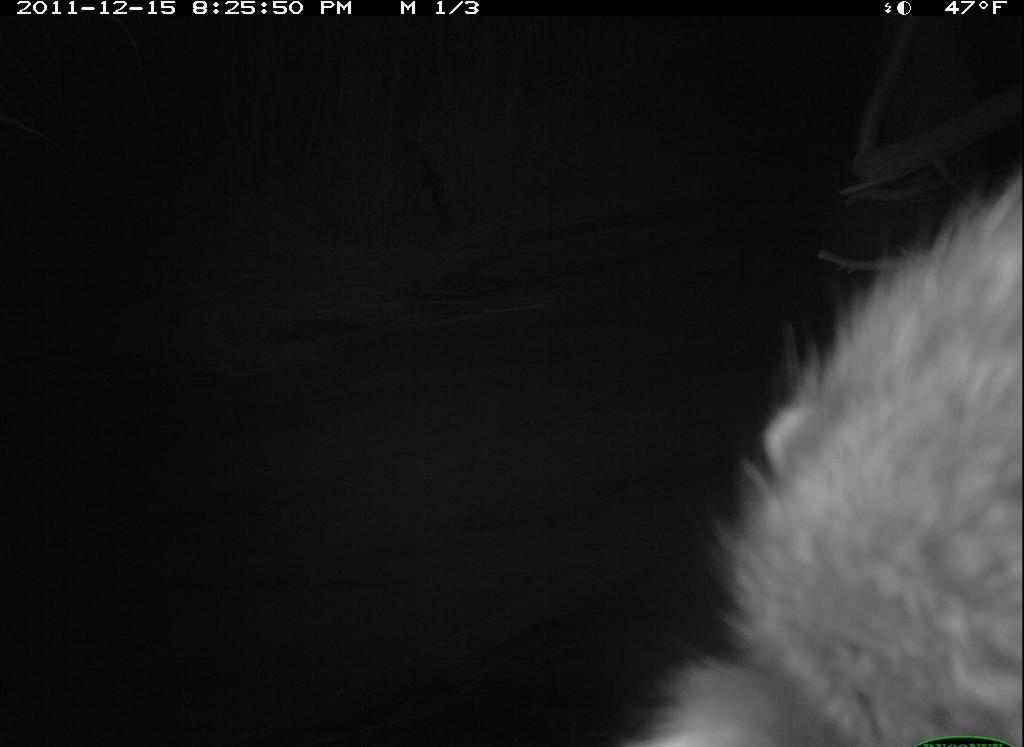raccoon: (610, 151, 1024, 747)
